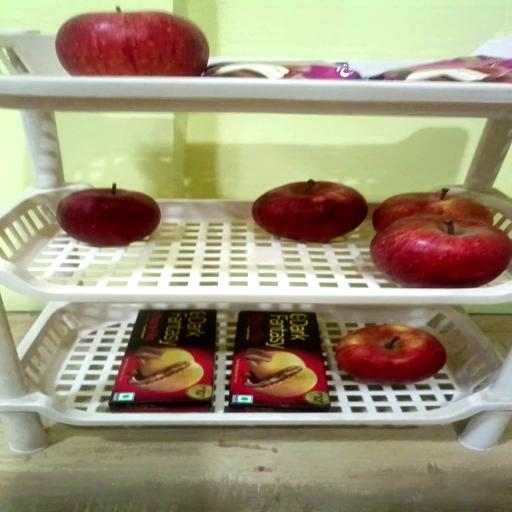Apple: (54, 5, 208, 77), (370, 218, 512, 290), (253, 182, 368, 246), (336, 324, 446, 386), (56, 185, 160, 249), (371, 189, 492, 235)
Choco Fills: (108, 309, 215, 413), (229, 310, 332, 413)
Choco Pie: (371, 56, 512, 83), (203, 61, 362, 81)
